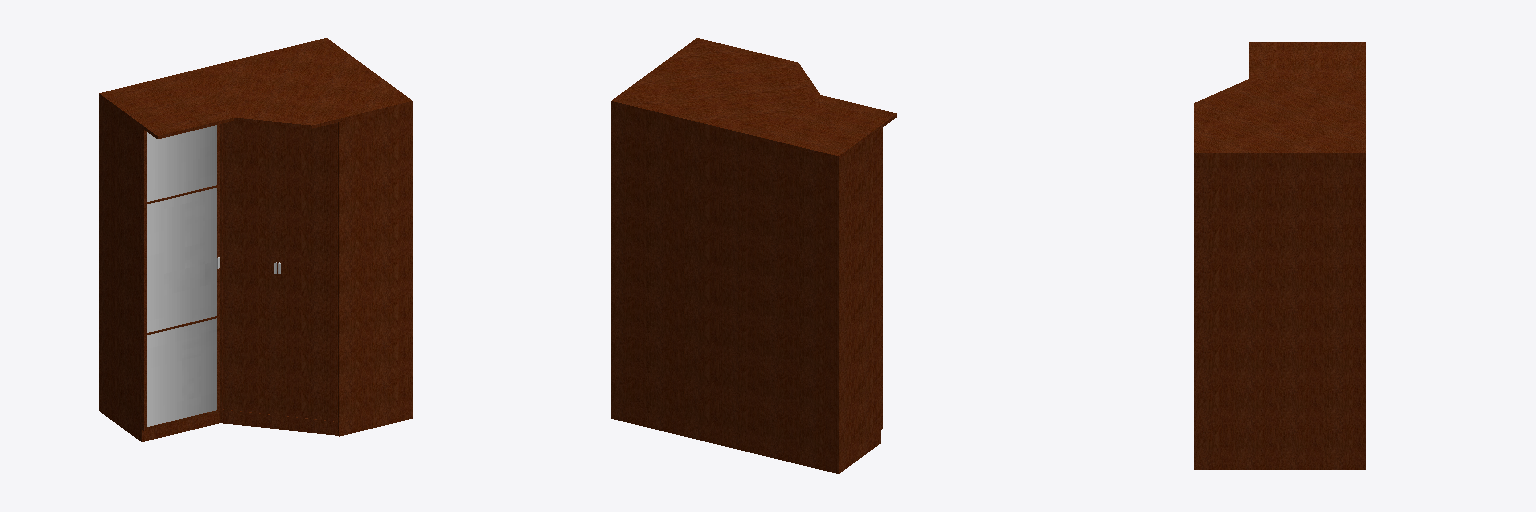
The picture shows the model from 3 angles: view 1: azimuth 30°, elevation 25°; view 2: azimuth 150°, elevation 25°; view 3: azimuth 270°, elevation 25°; orthographic projection.
Parts seen in each view (by area): view 1: Mesh10 Model, Mesh5 Group5 Model, Mesh9 Group9 Model, Mesh1 Group1 Model, Mesh2 Group2 Model, Mesh11 Model; view 2: Mesh10 Model, Mesh11 Model, Mesh1 Group1 Model, Mesh2 Group2 Model, Mesh3 Group3 Model, Mesh4 Group4 Model, Mesh9 Group9 Model; view 3: Mesh10 Model, Mesh2 Group2 Model, Mesh5 Group5 Model.
Part boxes in pixels (bbox=[...]): Mesh10 Model: bbox=[176, 38, 412, 435]; Mesh5 Group5 Model: bbox=[338, 104, 412, 436]; Mesh9 Group9 Model: bbox=[142, 124, 219, 430]; Mesh1 Group1 Model: bbox=[99, 97, 143, 441]; Mesh2 Group2 Model: bbox=[99, 75, 233, 138]; Mesh11 Model: bbox=[144, 414, 215, 441]; Mesh10 Model: bbox=[611, 38, 819, 454]; Mesh11 Model: bbox=[764, 142, 836, 473]; Mesh1 Group1 Model: bbox=[837, 129, 880, 473]; Mesh2 Group2 Model: bbox=[762, 95, 896, 159]; Mesh3 Group3 Model: bbox=[762, 141, 763, 455]; Mesh4 Group4 Model: bbox=[760, 141, 761, 454]; Mesh9 Group9 Model: bbox=[881, 128, 882, 429]; Mesh10 Model: bbox=[1194, 79, 1365, 469]; Mesh2 Group2 Model: bbox=[1249, 42, 1365, 78]; Mesh5 Group5 Model: bbox=[1194, 156, 1195, 469].
Bounding box in the file's own units: 178 × 238 × 117.
Materials: 4 (4 with a texture image).